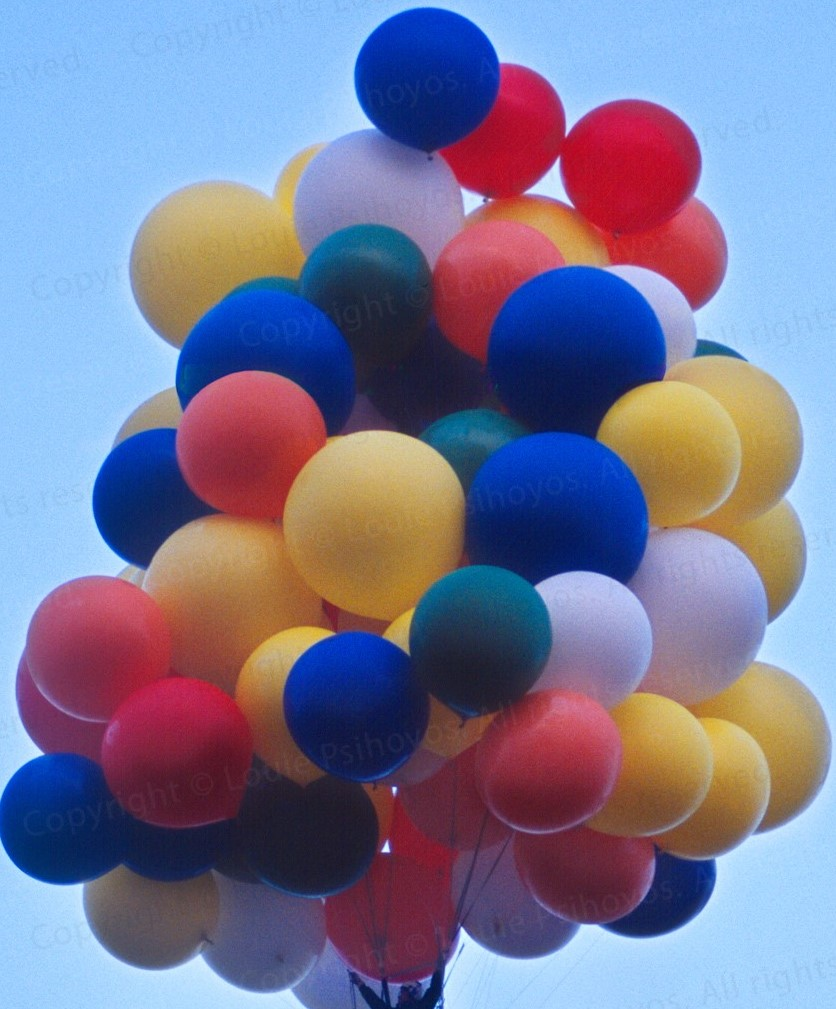Balloon: (283, 430, 463, 618), (489, 267, 667, 425), (634, 528, 769, 695), (100, 678, 250, 828), (169, 372, 322, 512), (354, 5, 499, 150), (27, 575, 171, 720), (285, 630, 428, 776), (473, 695, 624, 833), (412, 569, 550, 705), (560, 98, 703, 224), (302, 225, 431, 360), (605, 385, 732, 517), (1, 752, 129, 882), (327, 862, 460, 982), (244, 776, 377, 891), (208, 870, 325, 992), (86, 872, 218, 969)
